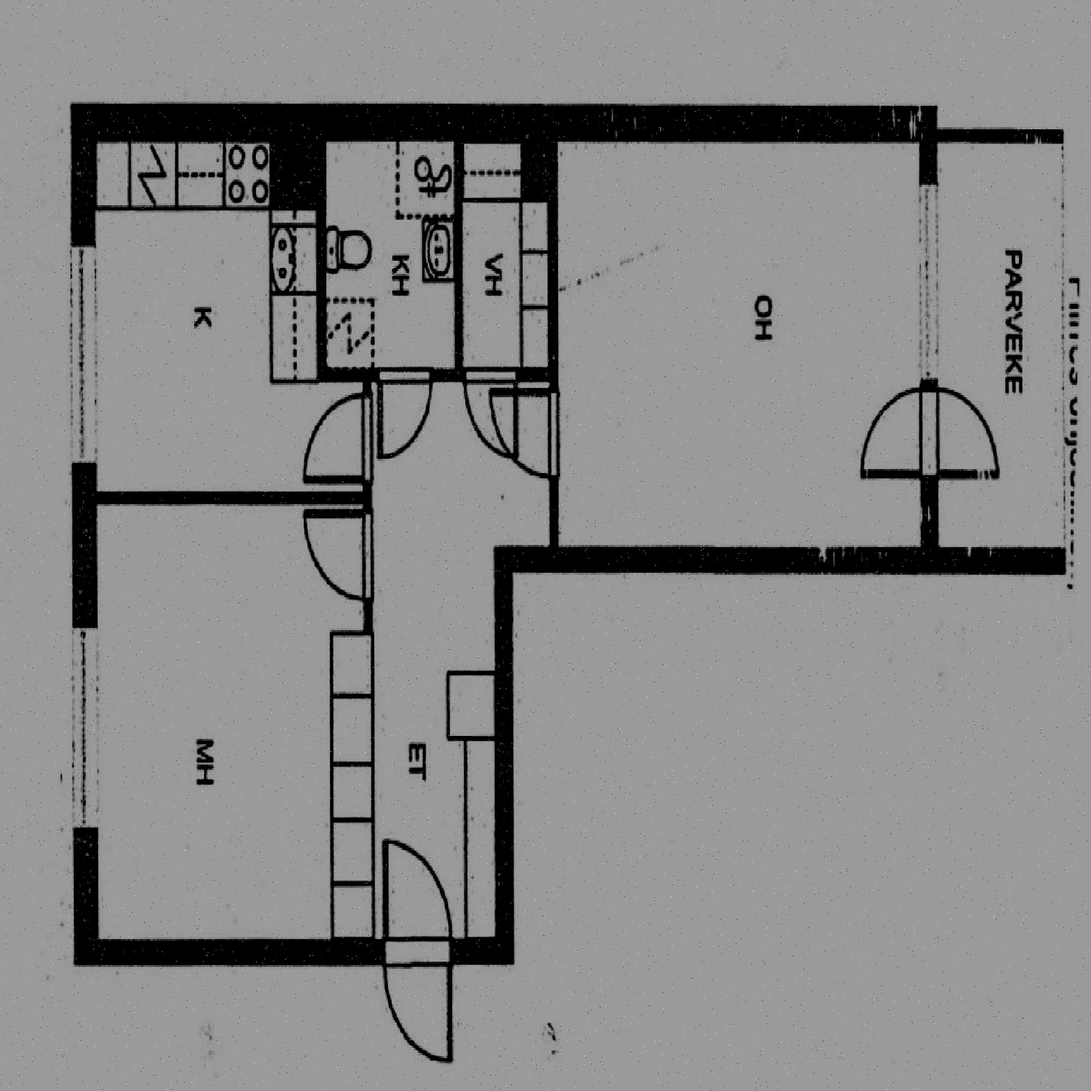wall: (71, 105, 96, 963), (556, 105, 938, 142), (71, 938, 511, 964), (495, 549, 938, 573), (919, 105, 938, 572), (71, 105, 269, 142), (325, 105, 521, 142), (495, 549, 511, 964), (270, 105, 325, 207), (548, 105, 556, 573), (521, 105, 556, 200), (71, 493, 371, 504), (938, 549, 1065, 573), (317, 367, 548, 379), (317, 105, 325, 380), (363, 379, 371, 630), (455, 142, 463, 368), (938, 129, 1065, 141)
